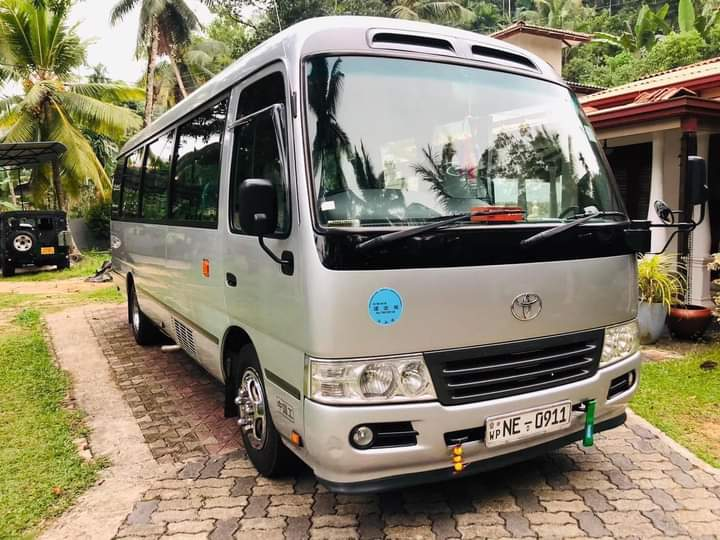number_plate: (486, 402, 572, 447)
